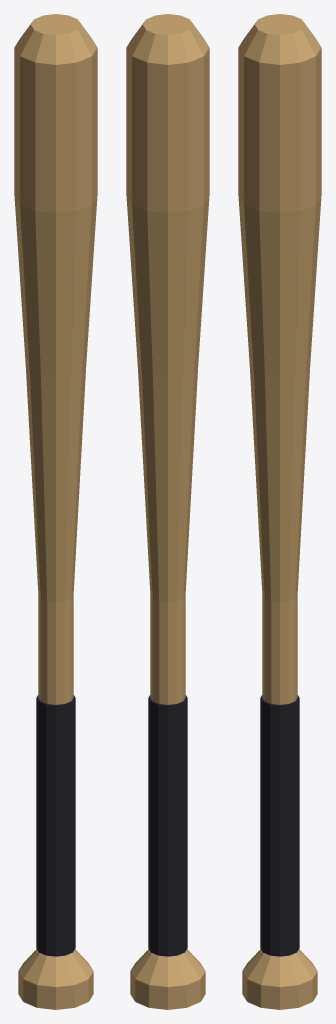
Rendered from Prop_WZ_Bat.glb.
The picture shows the model from 3 angles, left to right: view 1: azimuth 30°, elevation 25°; view 2: azimuth 150°, elevation 25°; view 3: azimuth 330°, elevation 25°; orthographic projection.
Visible parts, largest first — view 1: Prop_WZ_Bat; view 2: Prop_WZ_Bat; view 3: Prop_WZ_Bat.
Part boxes in pixels (x1,y1,x2,y2): Prop_WZ_Bat: (14, 14, 97, 1009); Prop_WZ_Bat: (126, 14, 209, 1009); Prop_WZ_Bat: (238, 14, 321, 1009).
Size of what is drawn, in the model's own units: 0.066 by 0.85 by 0.066.
